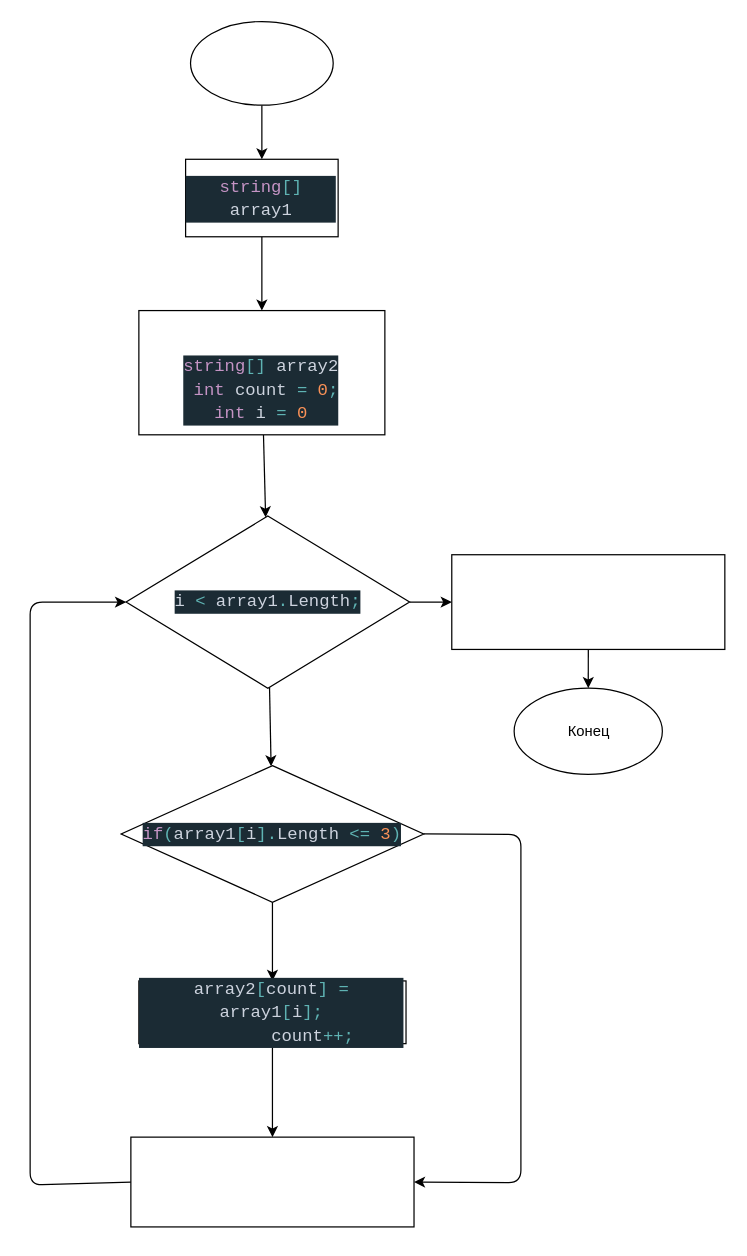
This 747x1256 diagram has some shape labels left out. Here are the shapes that lost their labels. From the top down, the centre of each, then its label:
At (261,62): "Начало".
At (588,601): "ArrayThree ( array1 , array2 ); PrintArray ( array2 );".
At (272,1181): "i++".
